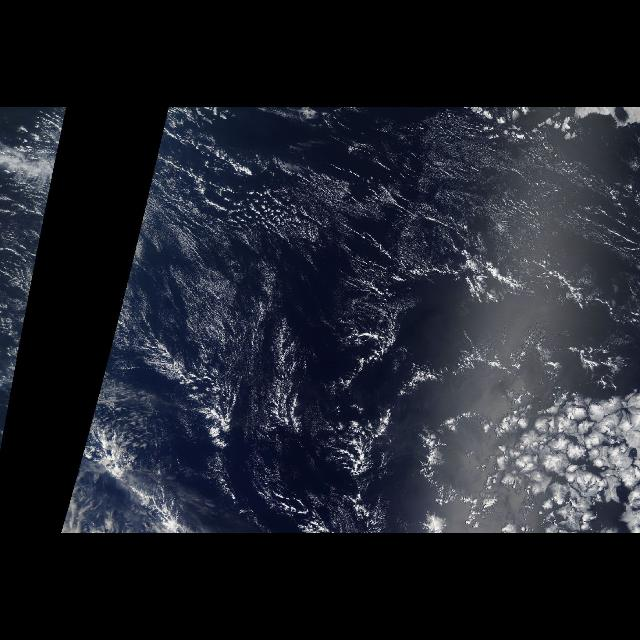Flower: (456, 374, 640, 534)
Gravel: (140, 339, 426, 477)
Sugar: (168, 108, 640, 450)
